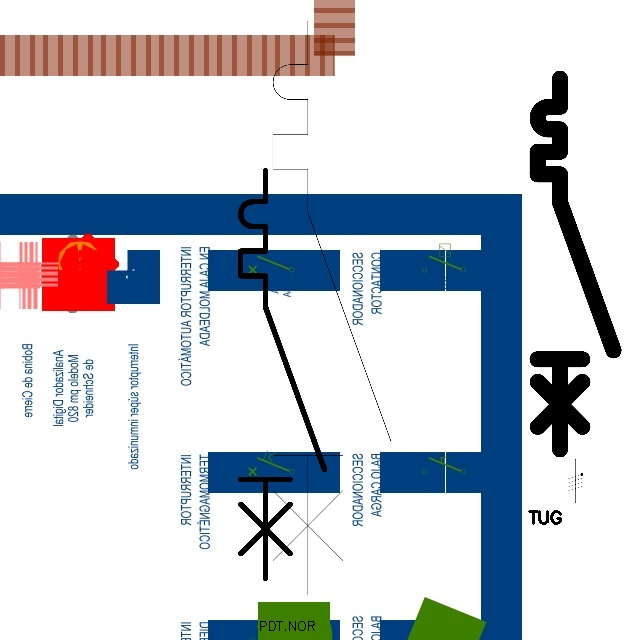interruptor_termomagnetico: (258, 6, 406, 610), (230, 160, 335, 589), (528, 69, 623, 459)
